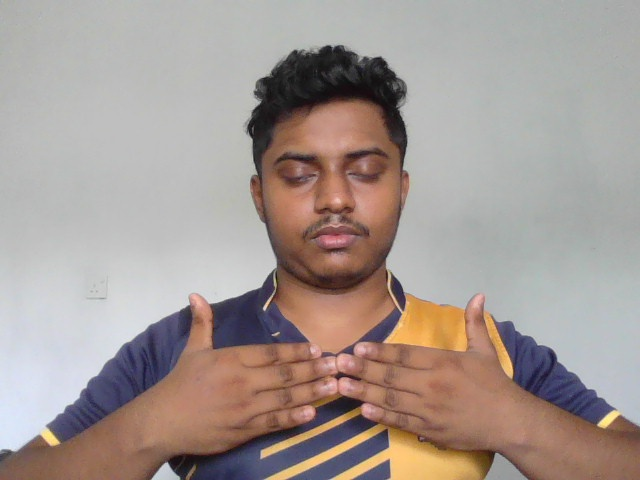Thank You: (163, 290, 507, 462)
